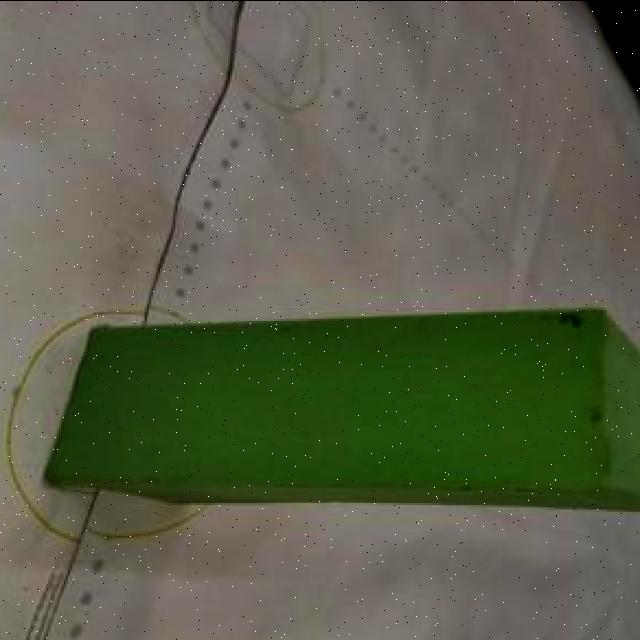greenbox: (46, 309, 640, 500)
